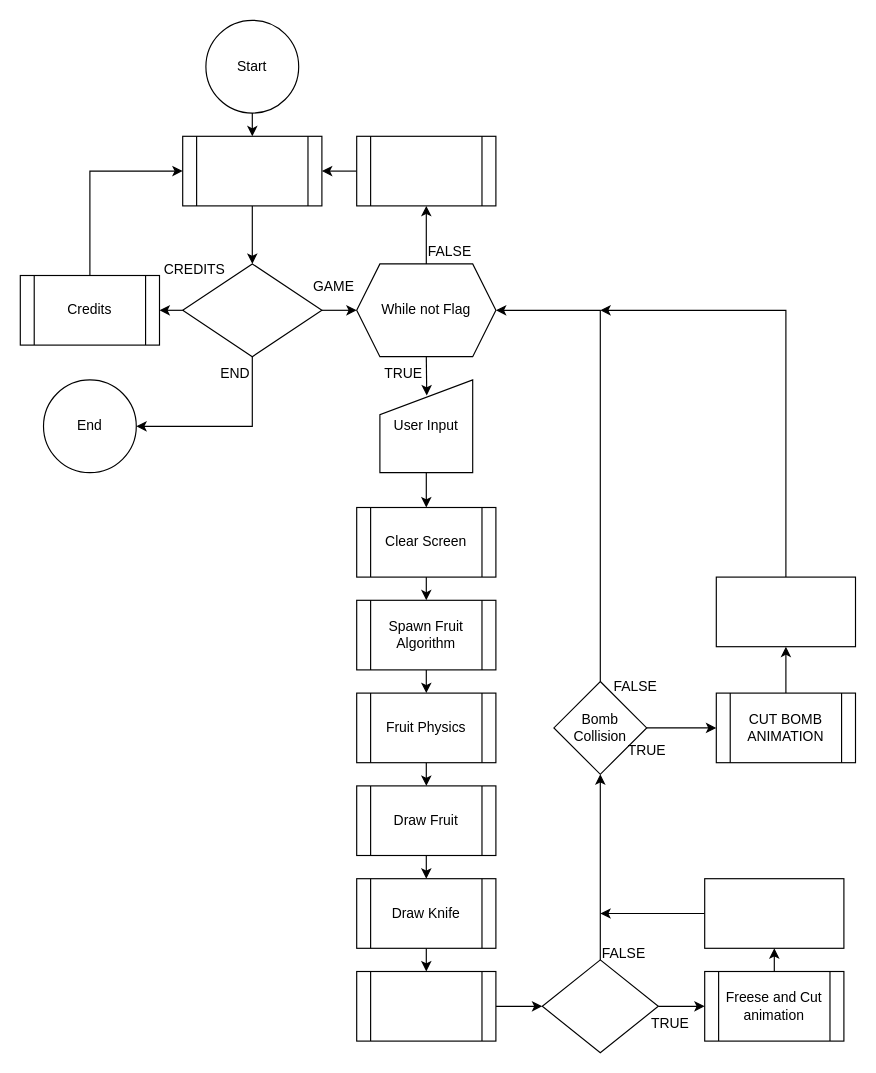
This 876x1073 diagram has some shape labels left out. Here are the shapes that lost their labels. From the top down, the box of each, then its label:
(182, 135, 322, 206): Menu
(356, 135, 496, 206): GAMEOVER
(182, 263, 322, 357): Game, End, or Credits
(715, 576, 855, 647): FLAG==TRUE
(704, 878, 844, 948): Score++
(356, 970, 496, 1041): Collision Detection
(541, 959, 658, 1053): Fruit Collision
